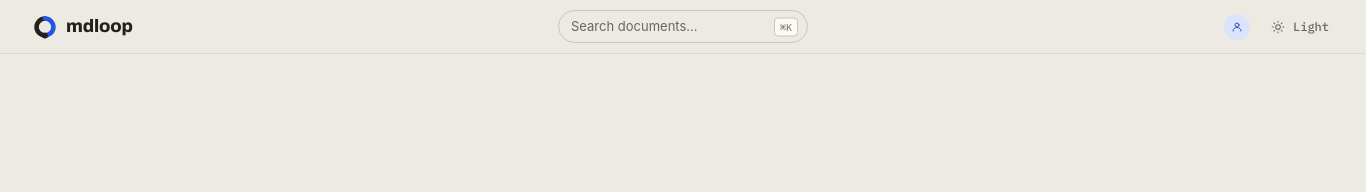
Scenario: AppHeader identity menu › closes on Escape
Click the button named "Account menu" at {"x": 1237, "y": 26}, box [1224, 14, 1250, 40]
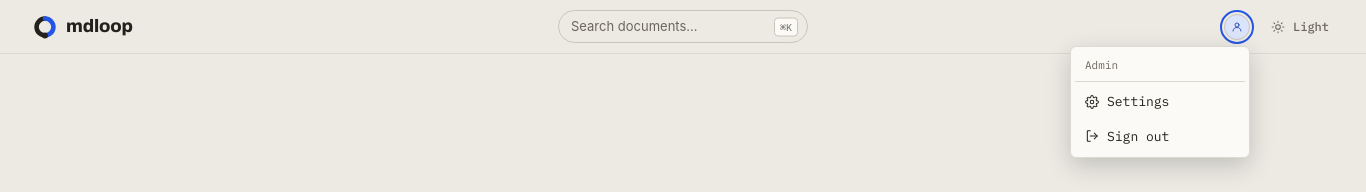
Check: the menu is shown, box [1070, 46, 1250, 158]
Press Escape
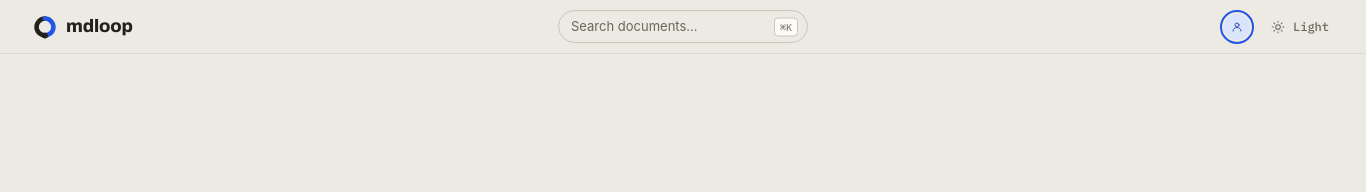
Check: the menu is gone
